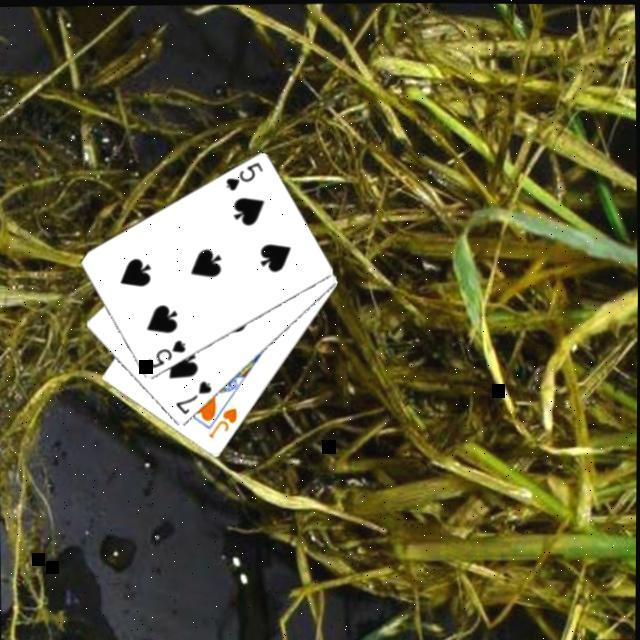5S: (224, 156, 268, 192), (146, 334, 191, 368)
7S: (174, 374, 218, 415)
JH: (206, 402, 243, 439)
